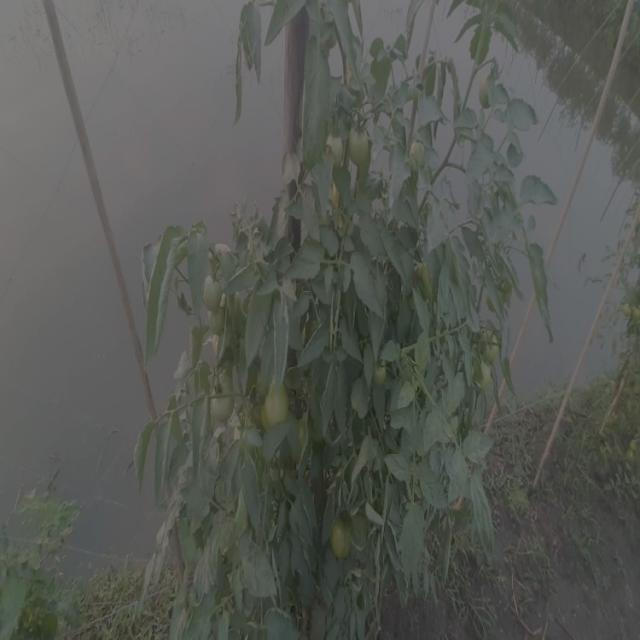tomato: (261, 378, 294, 430), (328, 514, 357, 563), (350, 119, 376, 173), (210, 384, 238, 426), (324, 124, 347, 169), (203, 271, 227, 309), (481, 330, 509, 360), (199, 312, 227, 338), (409, 134, 429, 168), (373, 360, 394, 387), (475, 369, 497, 393), (481, 82, 497, 110)
